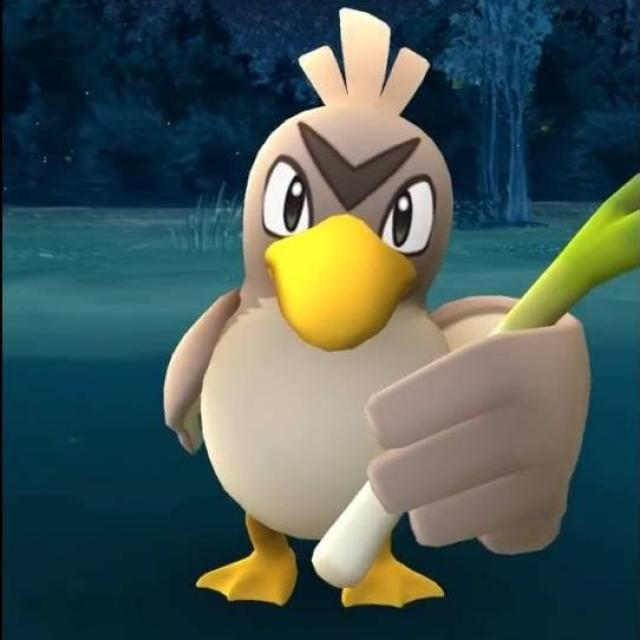Farfetchd: (158, 9, 592, 619)
